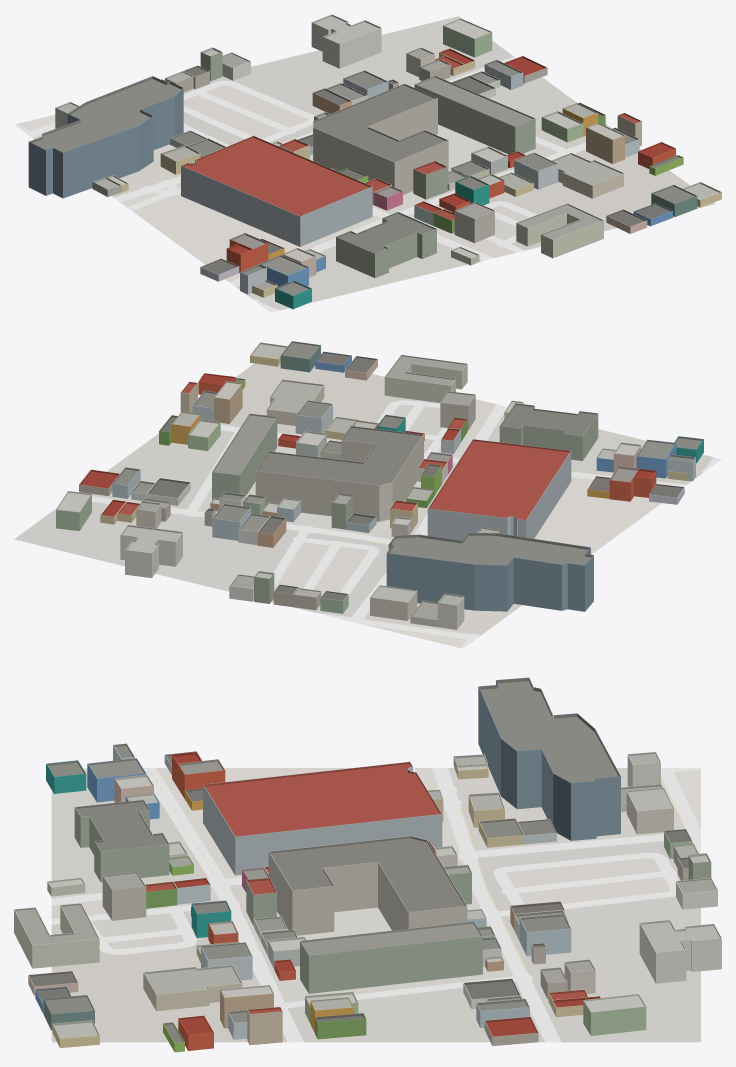
3 renders of one model, top to bottom at view 1: azimuth 30°, elevation 25°; view 2: azimuth 150°, elevation 25°; view 3: azimuth 270°, elevation 25°, orthographic. The views are drawn at different scales.
Parts seen in each view (by area): view 1: walls, roofs, ground, asphalt; view 2: walls, roofs, ground, asphalt; view 3: walls, roofs, ground, asphalt.
Boxes of the visible parts, <box> form: walls: <box>28,22,721,309</box>; roofs: <box>29,14,721,295</box>; ground: <box>17,16,714,310</box>; asphalt: <box>14,56,715,312</box>; walls: <box>56,345,703,629</box>; roofs: <box>56,341,703,619</box>; ground: <box>14,363,712,647</box>; asphalt: <box>92,400,721,648</box>; walls: <box>14,680,721,1052</box>; roofs: <box>14,677,721,1043</box>; ground: <box>51,768,700,1042</box>; asphalt: <box>51,768,700,1042</box>.
Size of what is drawn, in the model's own units: 289 by 24.5 by 273.
